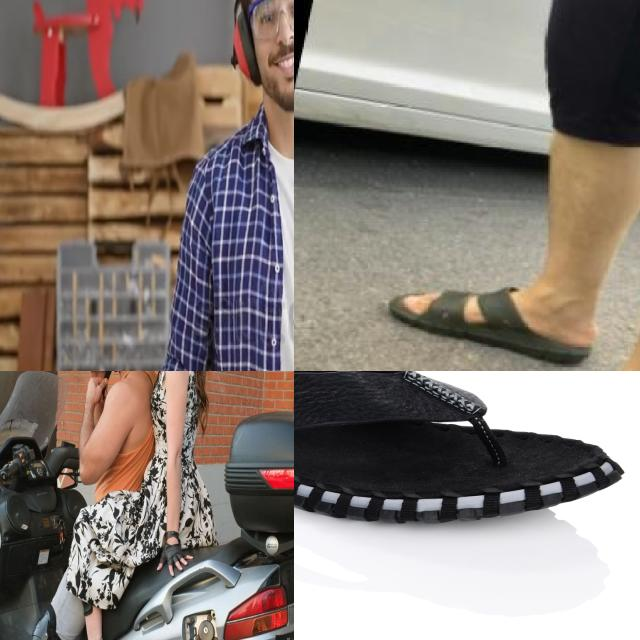Ear-protection: (231, 5, 261, 91)
Sandals: (294, 371, 627, 527), (386, 233, 599, 366)
glasses: (242, 0, 294, 40)
person: (164, 0, 294, 371)
